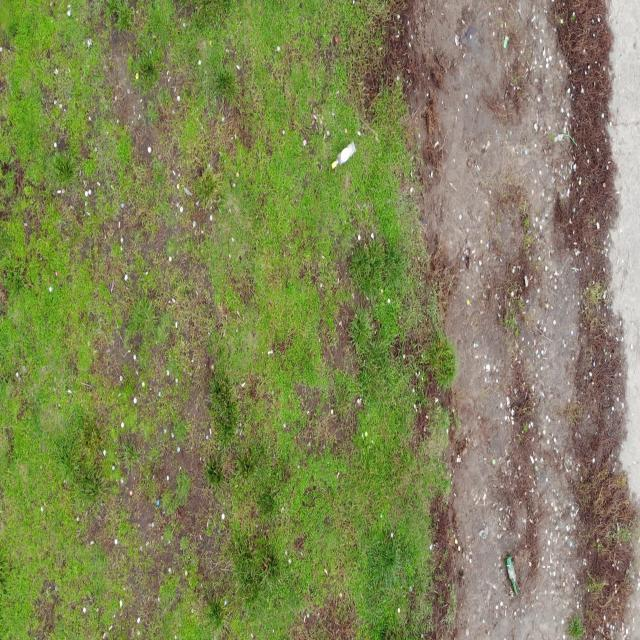rubbish: (331, 140, 356, 167), (504, 555, 517, 596)
